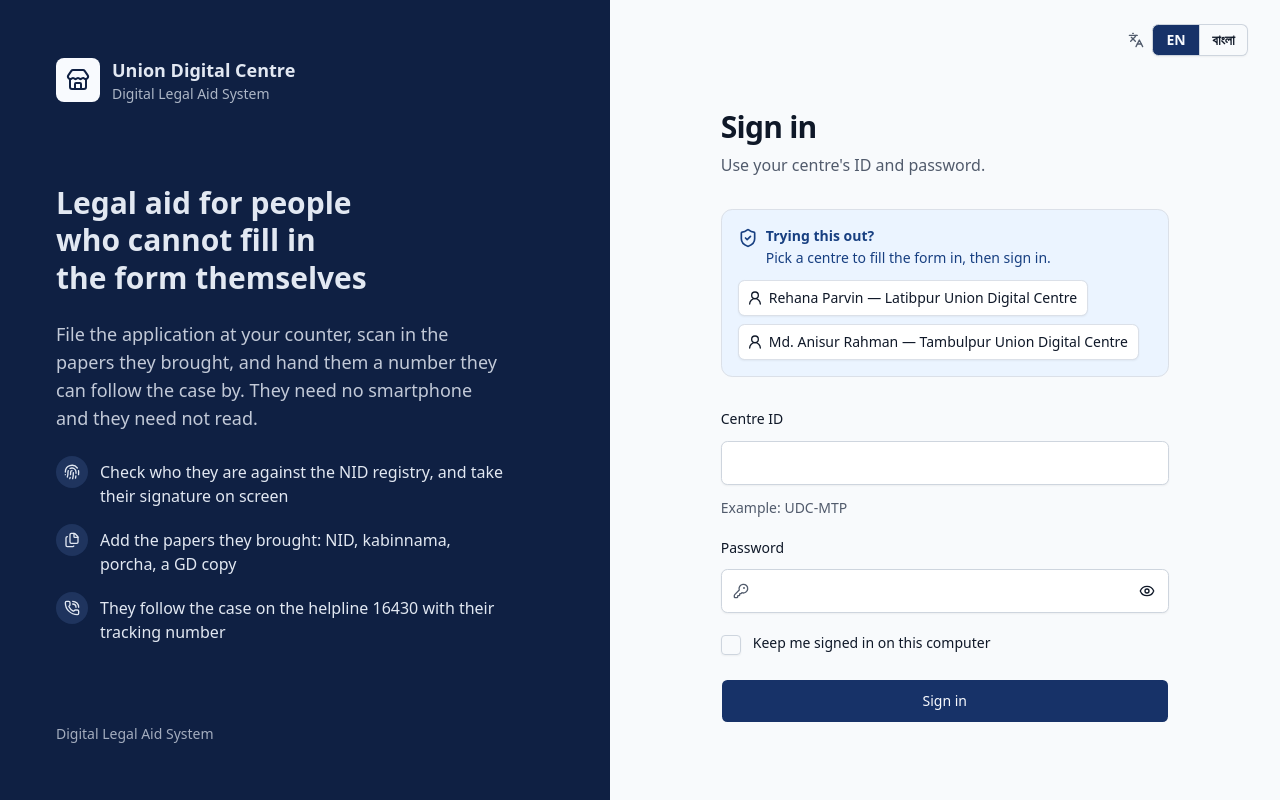
Test case: signing in › asks for a password before it looks the centre up
This screenshot has width=1280, height=800.
In the field labelled "Centre ID": (945, 462) 721,440 -> 1169,484, type "UDC-MTP"
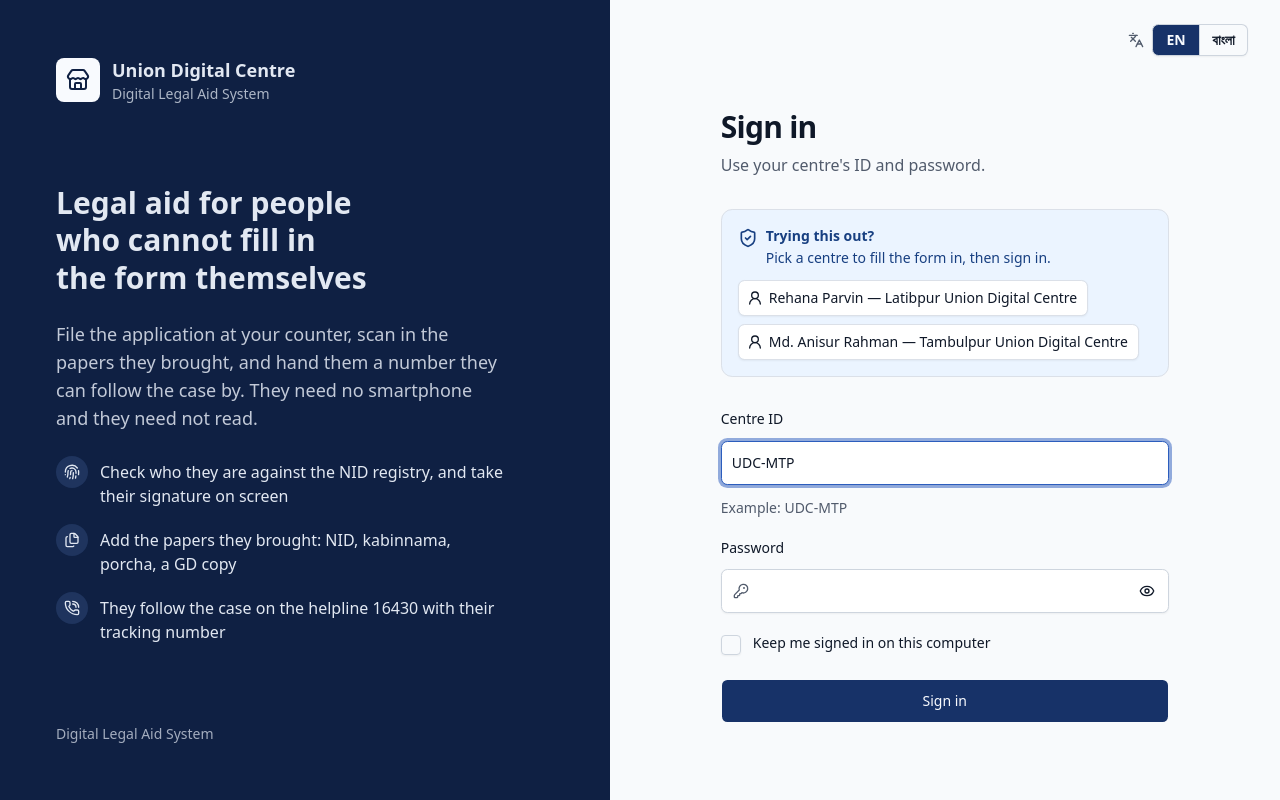
Click the button "Sign in": (945, 701) 721,679 -> 1169,723
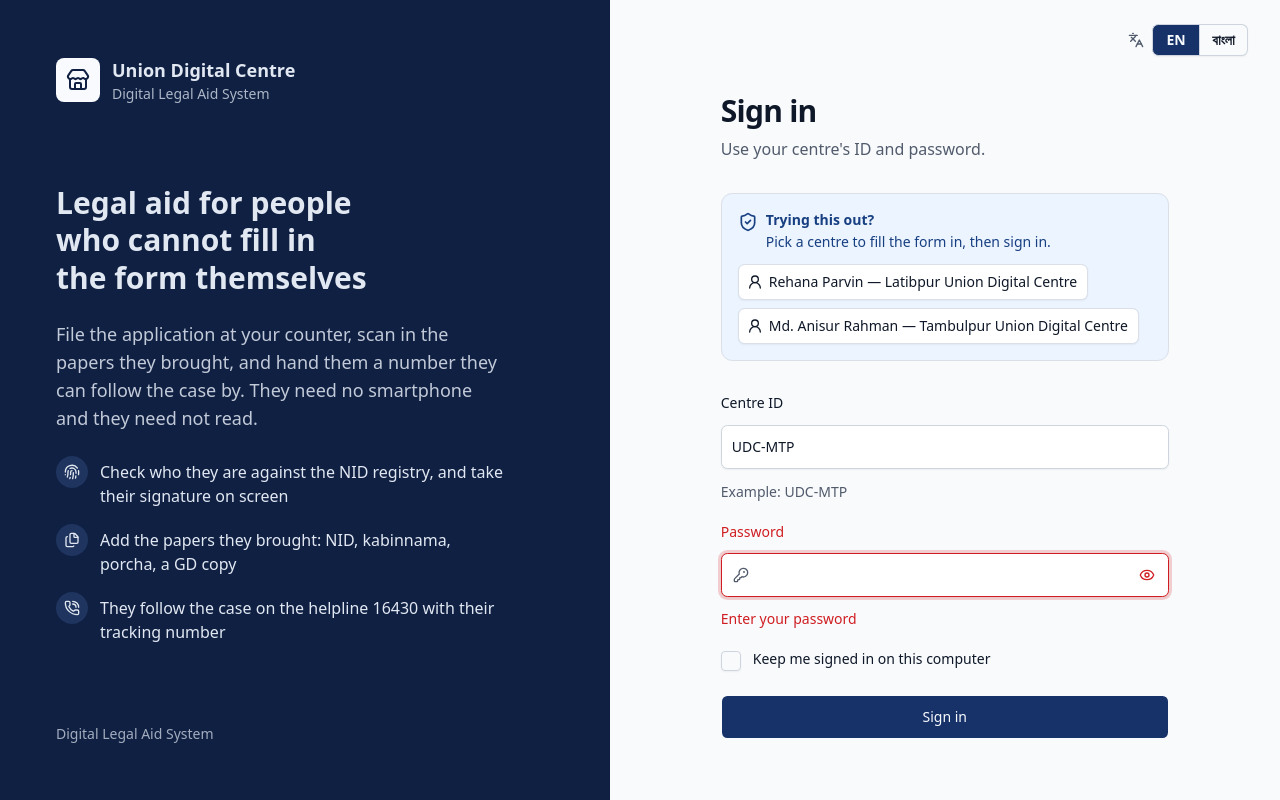
Expected: the text "Enter your password" is shown, 721,609 -> 857,628
